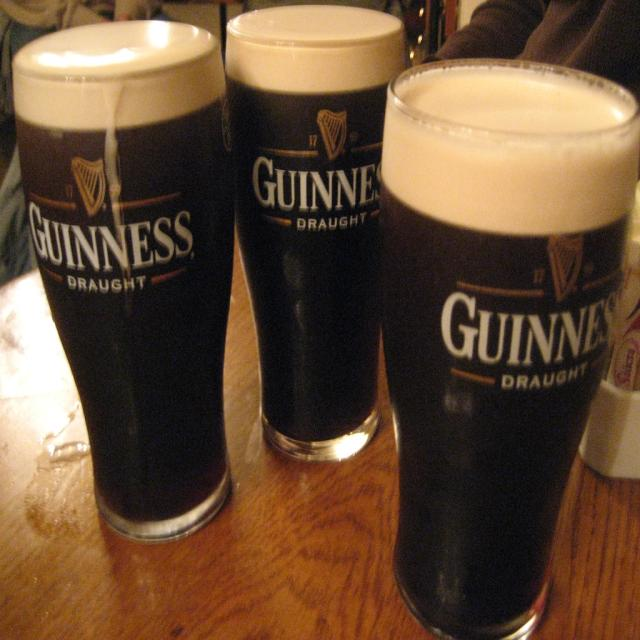guiness: (440, 232, 621, 369), (28, 155, 196, 275), (250, 109, 384, 213)
